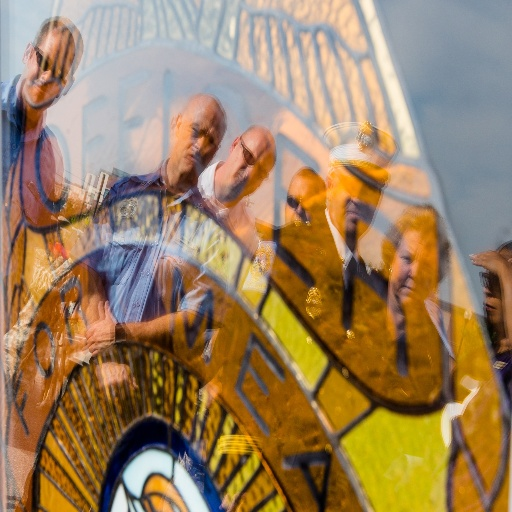hand: (83, 299, 118, 356), (468, 248, 508, 275)
